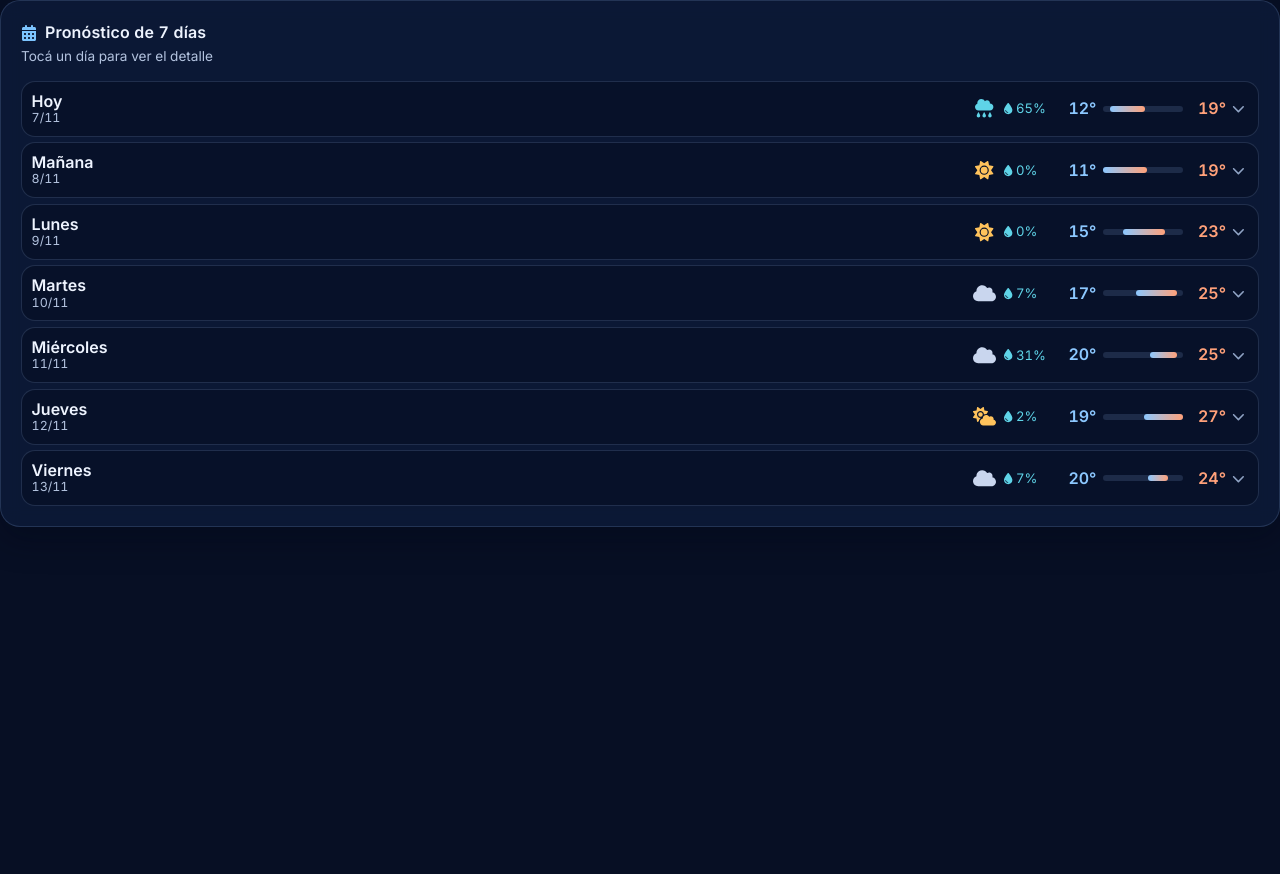
Scenario: DailyForecast › en el celular se expande y contrae dentro de la lista
This screenshot has width=1280, height=874.
Click the button "Lunes 9/11 0% 15° 23°". click: click(55, 224)
box: [21,204,1259,260]
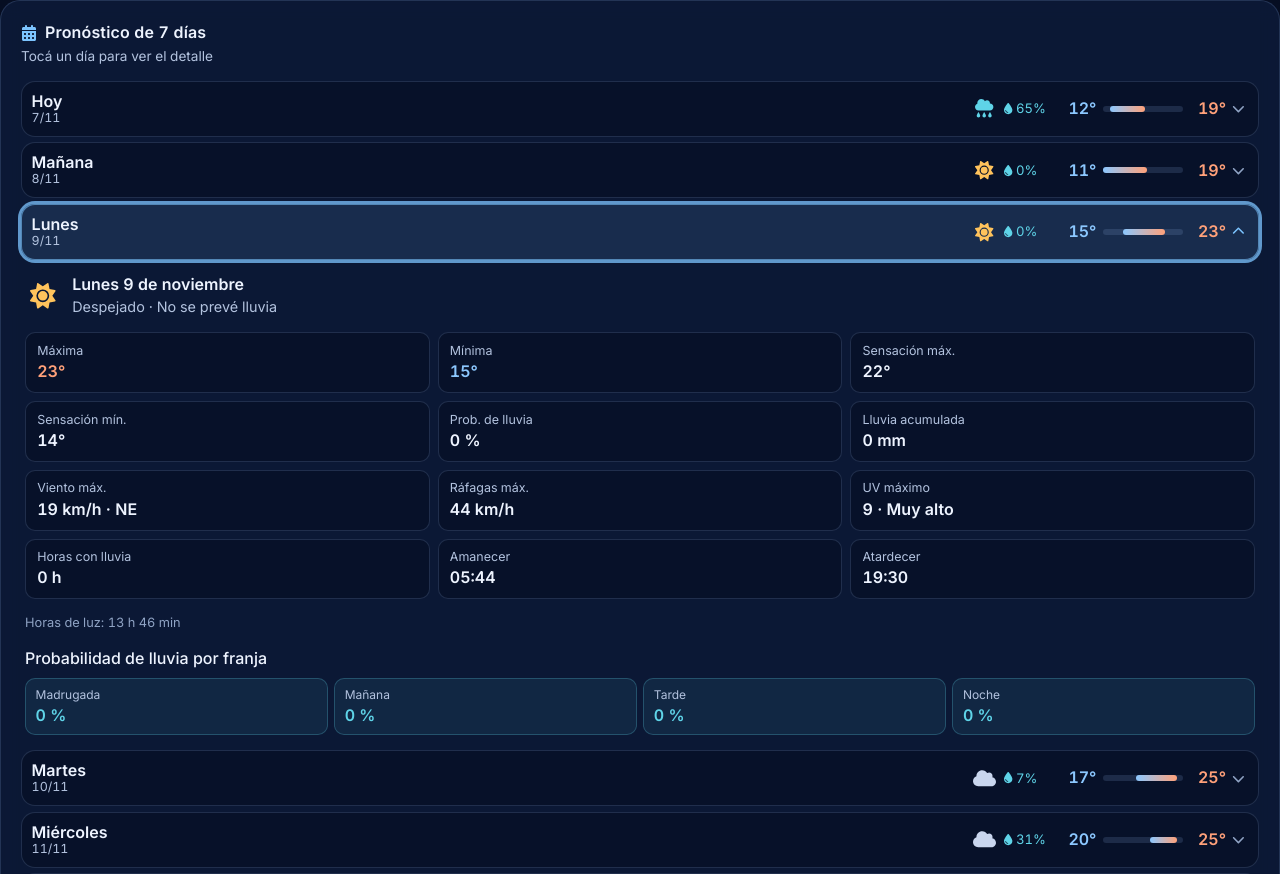
Expected: the button "Lunes 9/11 0% 15° 23°" is expanded
Click the button "Lunes 9/11 0% 15° 23°". click: click(55, 224)
box: [21,204,1259,260]
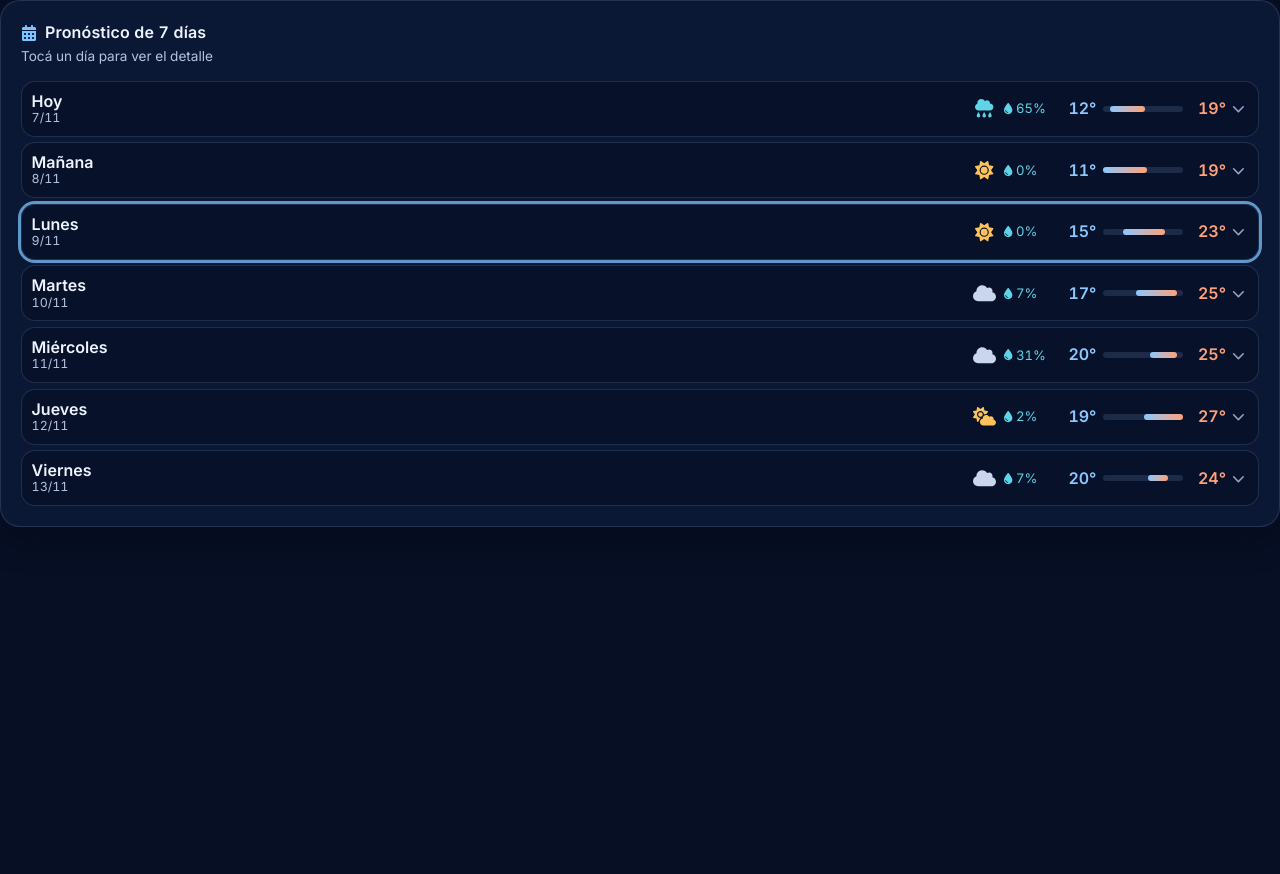
Expected: the button "Lunes 9/11 0% 15° 23°" is collapsed, [21,204,1259,260]
